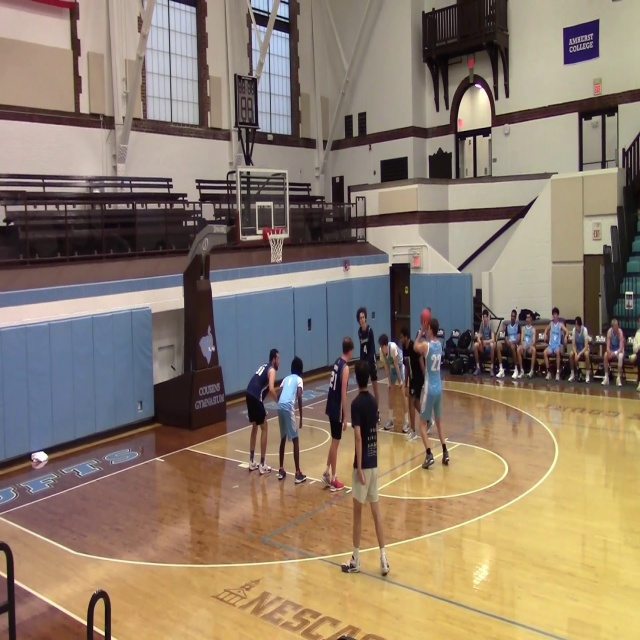Basketball: (30, 451, 48, 468), (420, 307, 431, 325)
